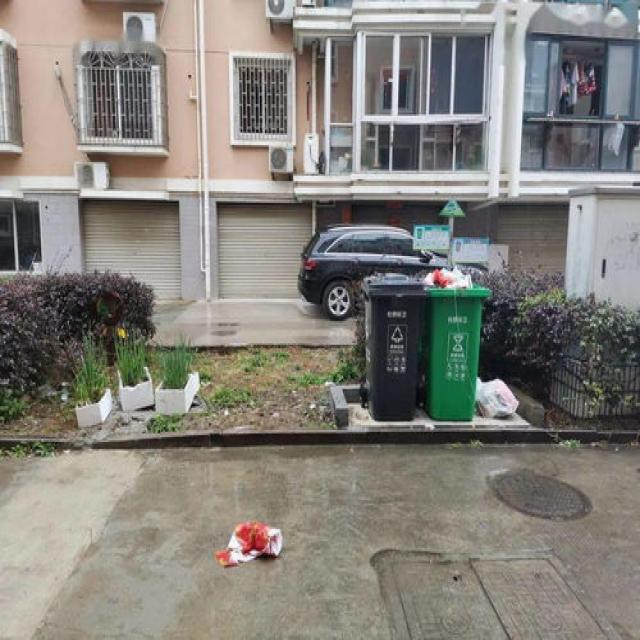garbage: (215, 518, 283, 566), (474, 374, 521, 416)
garbage_bin: (358, 270, 425, 420)
overflow: (425, 266, 488, 420)
